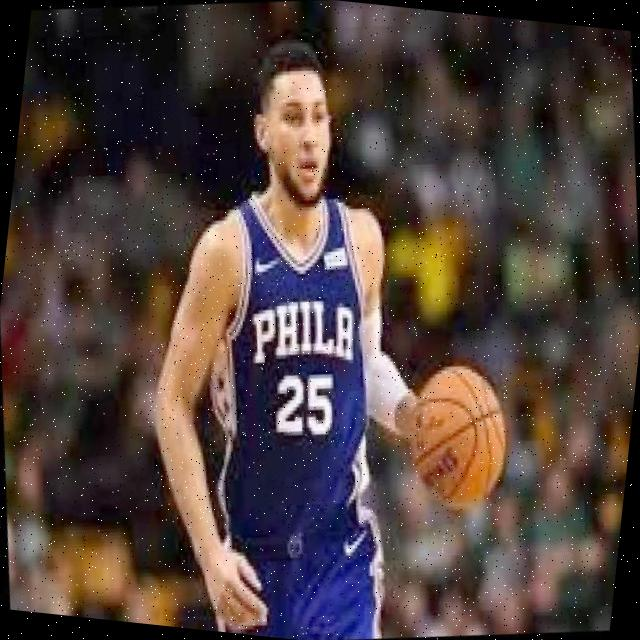ball: (398, 356, 522, 512)
